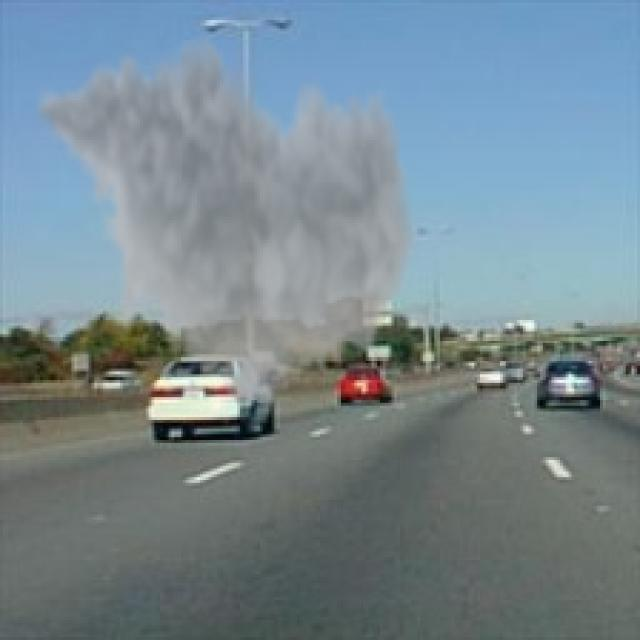smoke: (31, 26, 420, 423)
